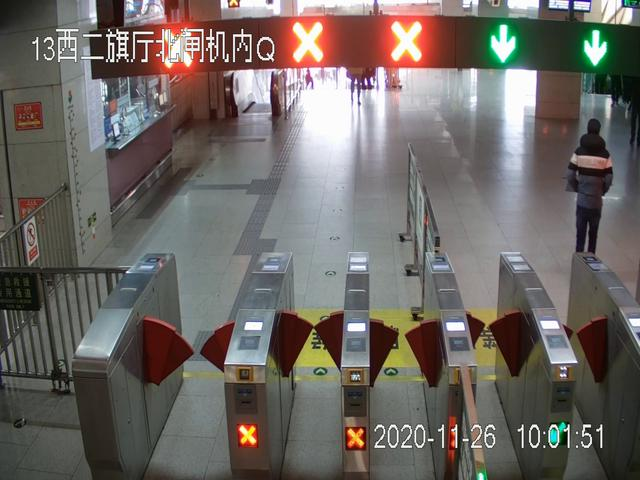person: (564, 117, 614, 268)
